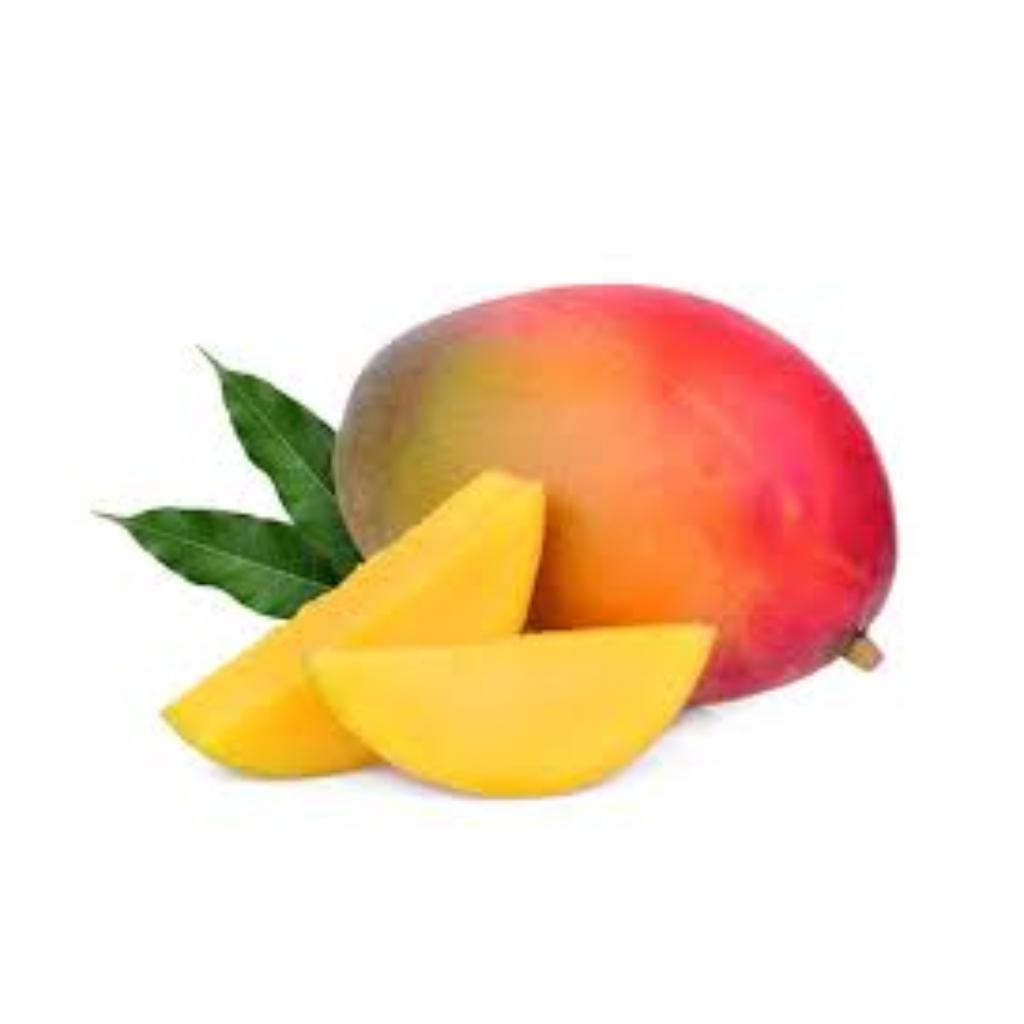mango: (331, 284, 900, 710)
